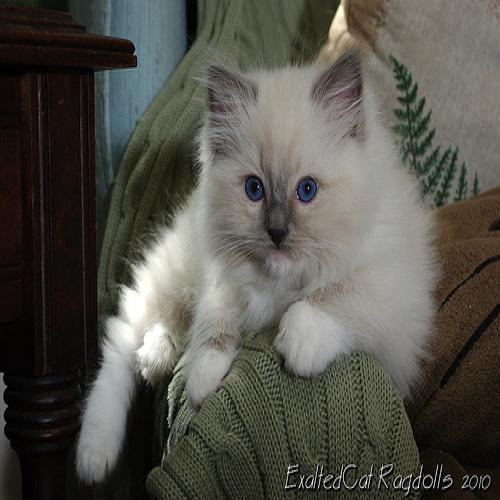ragdoll: (195, 38, 382, 313)
